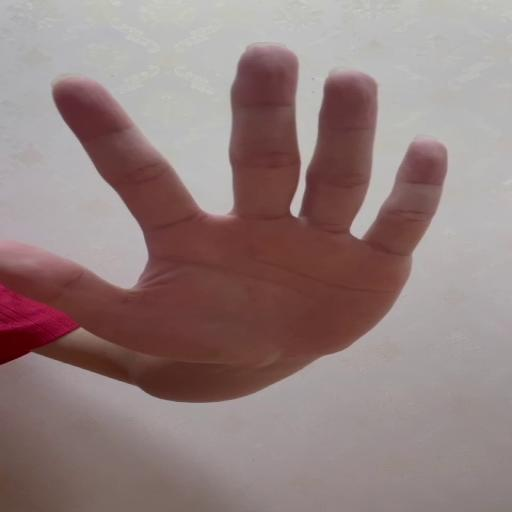open_palm: (5, 42, 451, 370)
